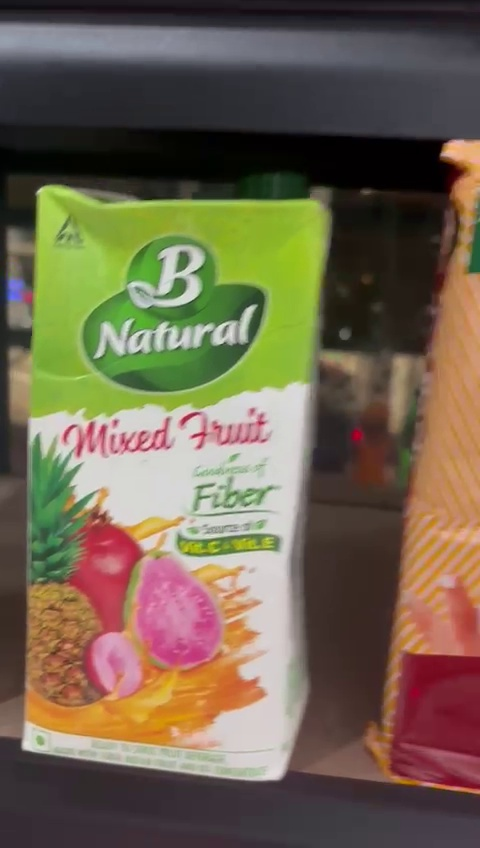Mixed Fruit: (33, 184, 296, 774)
